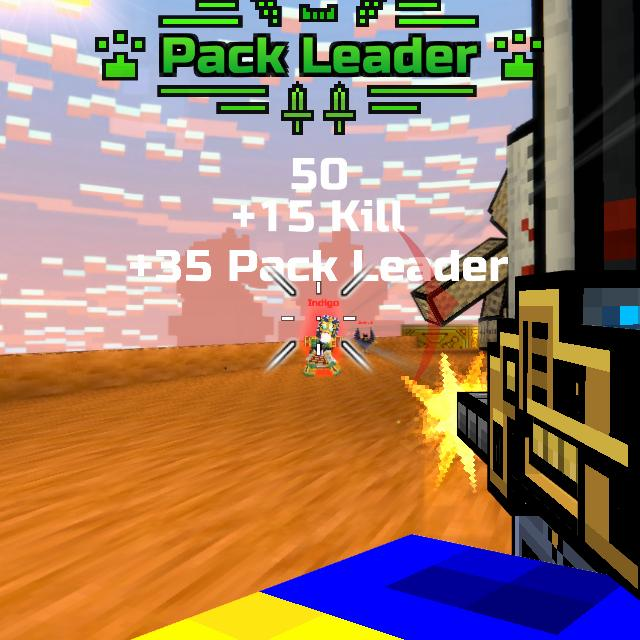Enemy: (302, 314, 341, 379)
